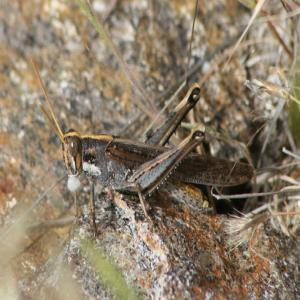locust: (41, 56, 241, 239)
